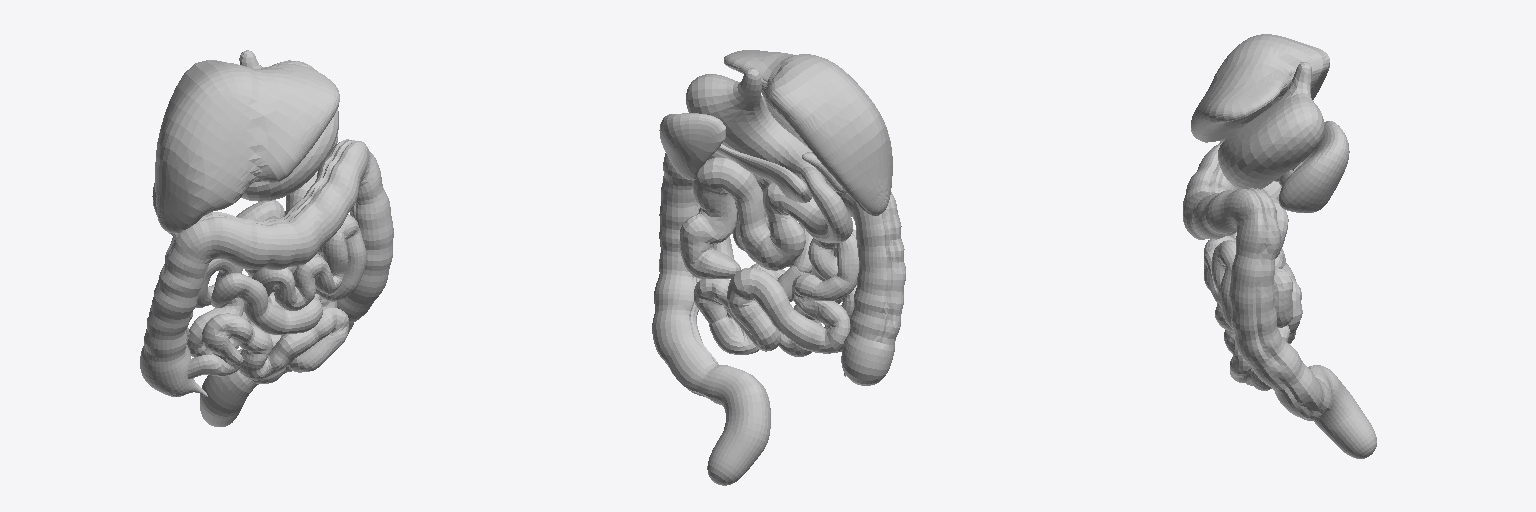
Rendered from organs.obj.
The picture shows the model from 3 angles: view 1: azimuth 30°, elevation 25°; view 2: azimuth 150°, elevation 25°; view 3: azimuth 270°, elevation 25°; orthographic projection.
Visible parts, largest first — view 1: organs1; view 2: organs1; view 3: organs1.
Boxes of the visible parts, <box> form: organs1: <box>140,50,393,426</box>; organs1: <box>652,50,905,485</box>; organs1: <box>1183,34,1376,458</box>.
Size of the model in its own units: 0.2771 by 0.4389 by 0.1935.